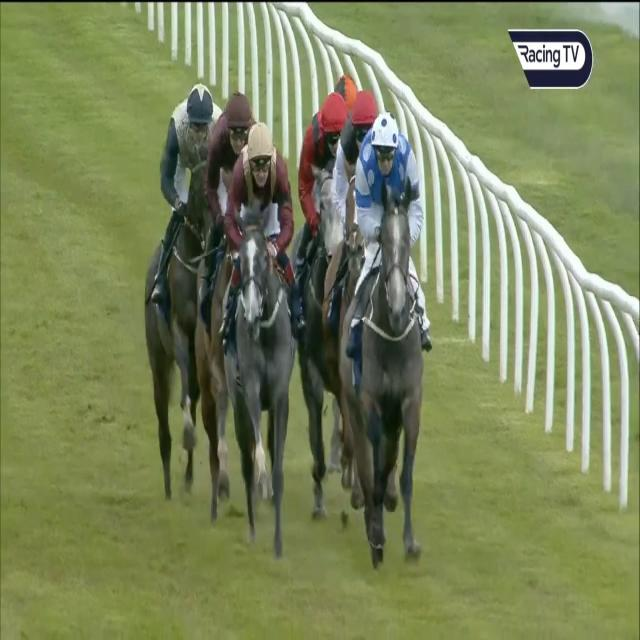horses-racing: (353, 108, 439, 600), (227, 124, 296, 545), (142, 74, 208, 511), (203, 81, 253, 526), (287, 82, 347, 323), (326, 85, 378, 326)
